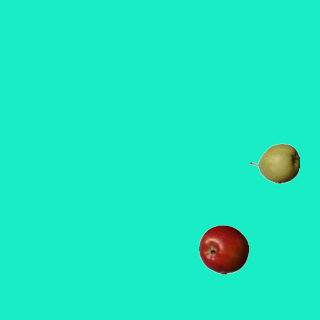Apple Braeburn: (198, 224, 248, 274)
Pear: (249, 138, 299, 188)
